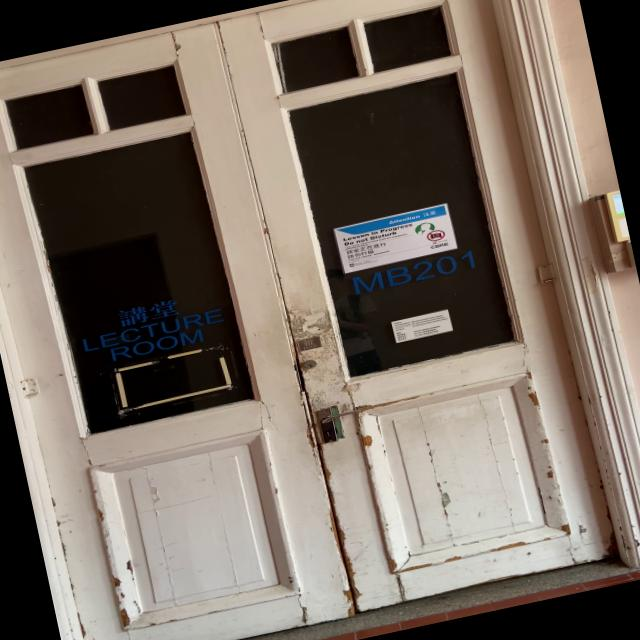room201Window: (343, 246, 483, 298)
